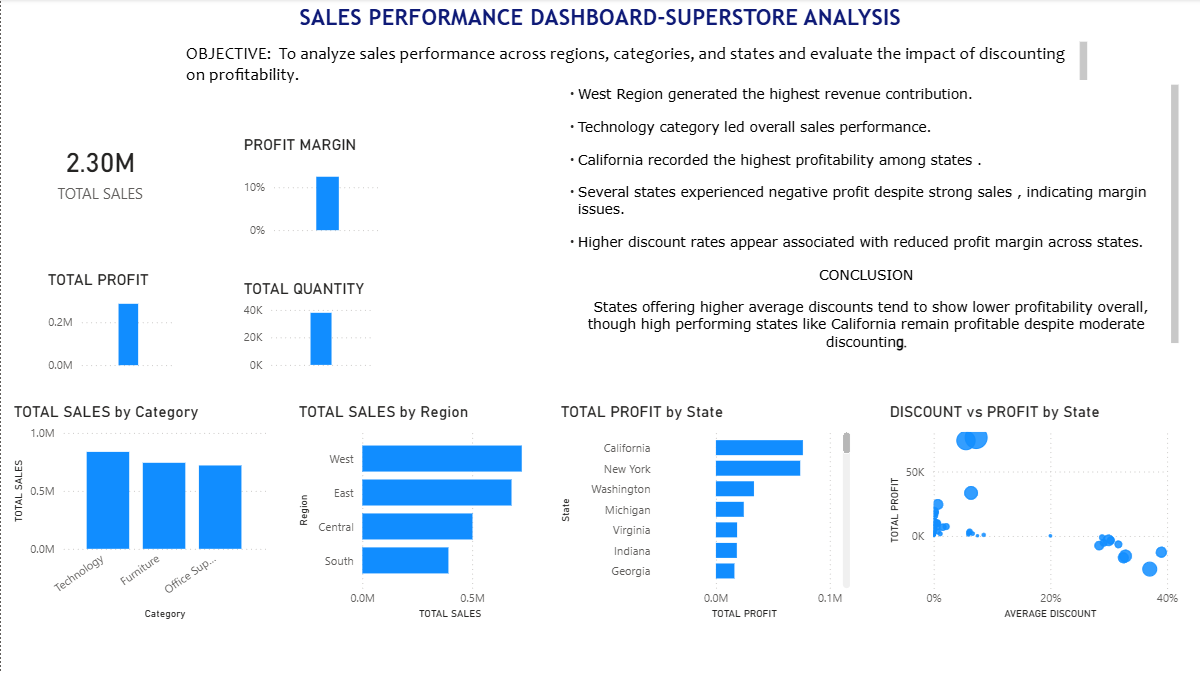

This screenshot's page, from the dashboard's own definition file:
{"tool":"powerbi","page":{"name":"Page 1","canvas":[1280,720],"ordinal":0},"visuals":[{"type":"clusteredColumnChart","fields":{"Y":["SampleSuperstore.TOTAL PROFIT"]},"box":[45.2,289.7,146.5,115.7],"z":0},{"type":"clusteredColumnChart","fields":{"Y":["SampleSuperstore.PROFIT MARGIN"]},"box":[254.5,145.4,157.5,115.7],"z":1000},{"type":"clusteredColumnChart","fields":{"Y":["SampleSuperstore.TOTAL QUANTITY"]},"box":[254.5,299.6,146.5,105.7],"z":2000},{"type":"clusteredBarChart","fields":{"Category":["SampleSuperstore.Region"],"Y":["SampleSuperstore.TOTAL SALES"]},"box":[312.8,430.7,279.8,236.8],"z":3000},{"type":"clusteredColumnChart","fields":{"Category":["SampleSuperstore.Category"],"Y":["SampleSuperstore.TOTAL SALES"]},"box":[8.8,430.7,279.8,236.8],"z":4000},{"type":"barChart","fields":{"Category":["SampleSuperstore.State"],"Y":["SampleSuperstore.TOTAL PROFIT"]},"box":[592.6,430.7,319.4,236.8],"z":5000},{"type":"card","fields":{"Values":["SampleSuperstore.TOTAL SALES"]},"box":[46.1,144.9,120.2,76.4],"z":6000},{"type":"textbox","box":[0,0,1280,60.6],"z":7000},{"type":"scatterChart","title":"DISCOUNT vs PROFIT by State","fields":{"X":["SampleSuperstore.AVERAGE DISCOUNT"],"Y":["SampleSuperstore.TOTAL PROFIT"],"Size":["SampleSuperstore.TOTAL SALES"],"Category":["SampleSuperstore.State"]},"box":[944.3,430.5,318.3,237.2],"z":8000},{"type":"textbox","box":[192.2,41.1,973.3,54.4],"z":8001},{"type":"textbox","box":[592.9,86.5,669.8,298],"z":8002}]}

Visuals, with their boxes in screenshot pixels (x1, y1, x2, y2), scaled from the page's 1280x720 canvas onto the 1200x673 screenshot:
clusteredColumnChart - SampleSuperstore.TOTAL PROFIT: box=[42, 271, 180, 379]
clusteredColumnChart - SampleSuperstore.PROFIT MARGIN: box=[239, 136, 386, 244]
clusteredColumnChart - SampleSuperstore.TOTAL QUANTITY: box=[239, 280, 376, 379]
clusteredBarChart - SampleSuperstore.Region x SampleSuperstore.TOTAL SALES: box=[293, 403, 556, 624]
clusteredColumnChart - SampleSuperstore.Category x SampleSuperstore.TOTAL SALES: box=[8, 403, 271, 624]
barChart - SampleSuperstore.State x SampleSuperstore.TOTAL PROFIT: box=[556, 403, 855, 624]
card - SampleSuperstore.TOTAL SALES: box=[43, 135, 156, 207]
textbox: box=[0, 0, 1199, 57]
"DISCOUNT vs PROFIT by State" scatterChart: box=[885, 402, 1184, 624]
textbox: box=[180, 38, 1093, 89]
textbox: box=[556, 81, 1184, 359]
